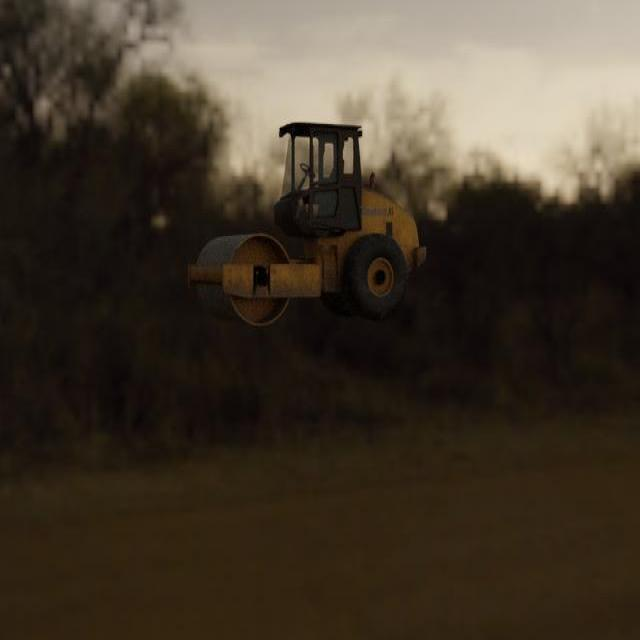Roller: (187, 120, 426, 325)
